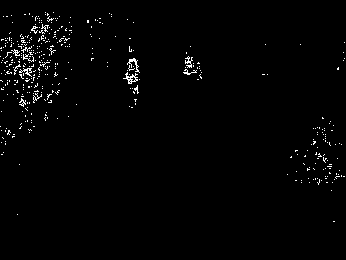person: (124, 58, 142, 107)
